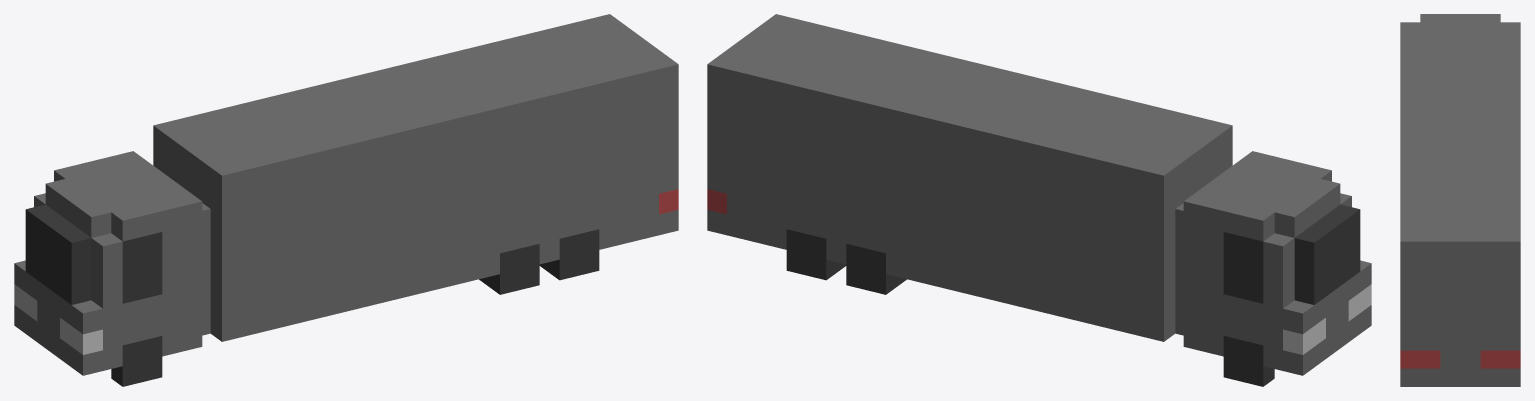
File: truck-v4-grey.gltf
3 renders of one model, left to right at view 1: azimuth 30°, elevation 25°; view 2: azimuth 150°, elevation 25°; view 3: azimuth 270°, elevation 25°, orthographic. The views are drawn at different scales.
Parts seen in each view (by area): view 1: model, wheels; view 2: model, wheels; view 3: model.
Boxes of the visible parts, left/top/right/bottom form: model: left=14, top=14, right=678, bottom=375; wheels: left=111, top=229, right=599, bottom=386; model: left=707, top=14, right=1371, bottom=375; wheels: left=786, top=229, right=1274, bottom=386; model: left=1400, top=14, right=1520, bottom=386.
Bounding box in the file's own units: 3 × 0.9 × 0.6.
2 materials, 2 textured.
